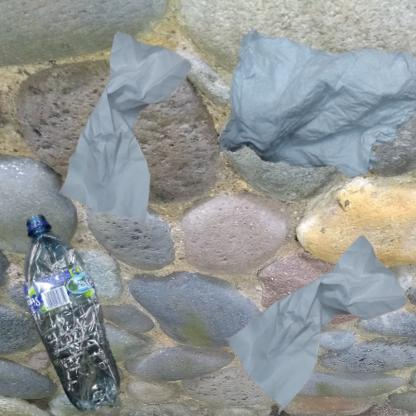botella: (10, 213, 139, 416)
papel: (10, 10, 261, 275), (213, 213, 416, 416), (213, 10, 416, 210)
